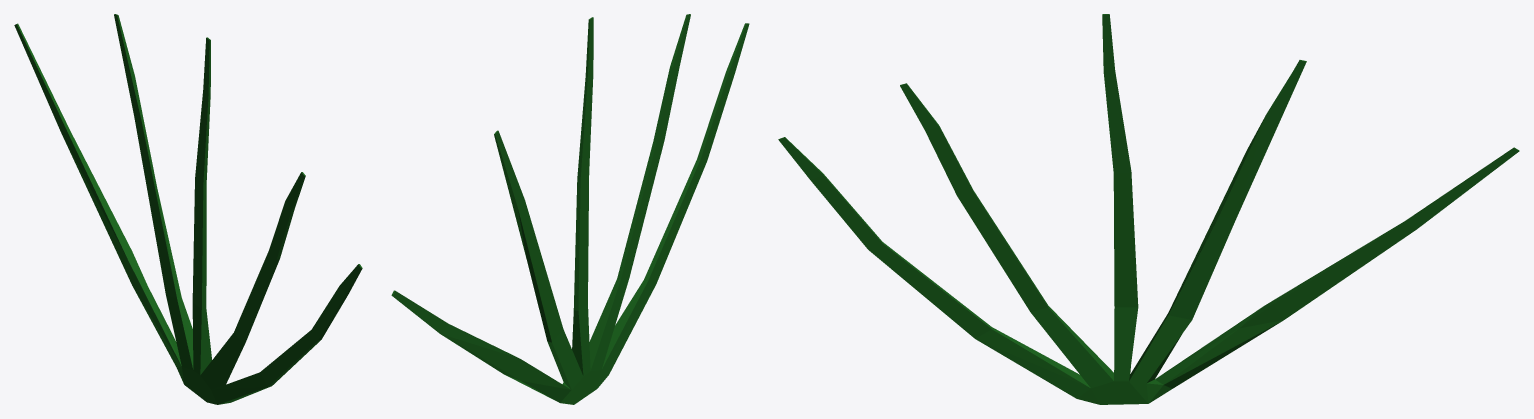
The model's file is SeaWeed2.glb.
3 views of the same model, side by side, from view 1: azimuth 30°, elevation 25°; view 2: azimuth 150°, elevation 25°; view 3: azimuth 270°, elevation 25° (orthographic). The views are drawn at different scales.
Parts seen in each view (by area): view 1: SeaWeed2; view 2: SeaWeed2; view 3: SeaWeed2.
Part boxes in pixels (x1=…): SeaWeed2: x1=14, y1=14, x2=362, y2=404; SeaWeed2: x1=391, y1=14, x2=749, y2=404; SeaWeed2: x1=778, y1=14, x2=1519, y2=404.
Size of the model in its own units: 0.00608 by 0.1452 by 0.2526.
